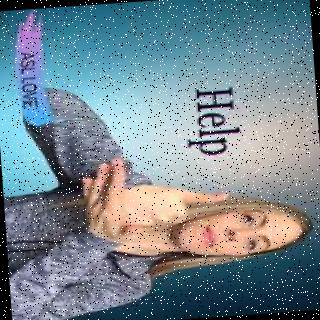Help: (62, 147, 238, 271)
